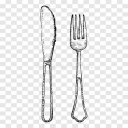Fork: (62, 8, 91, 125)
